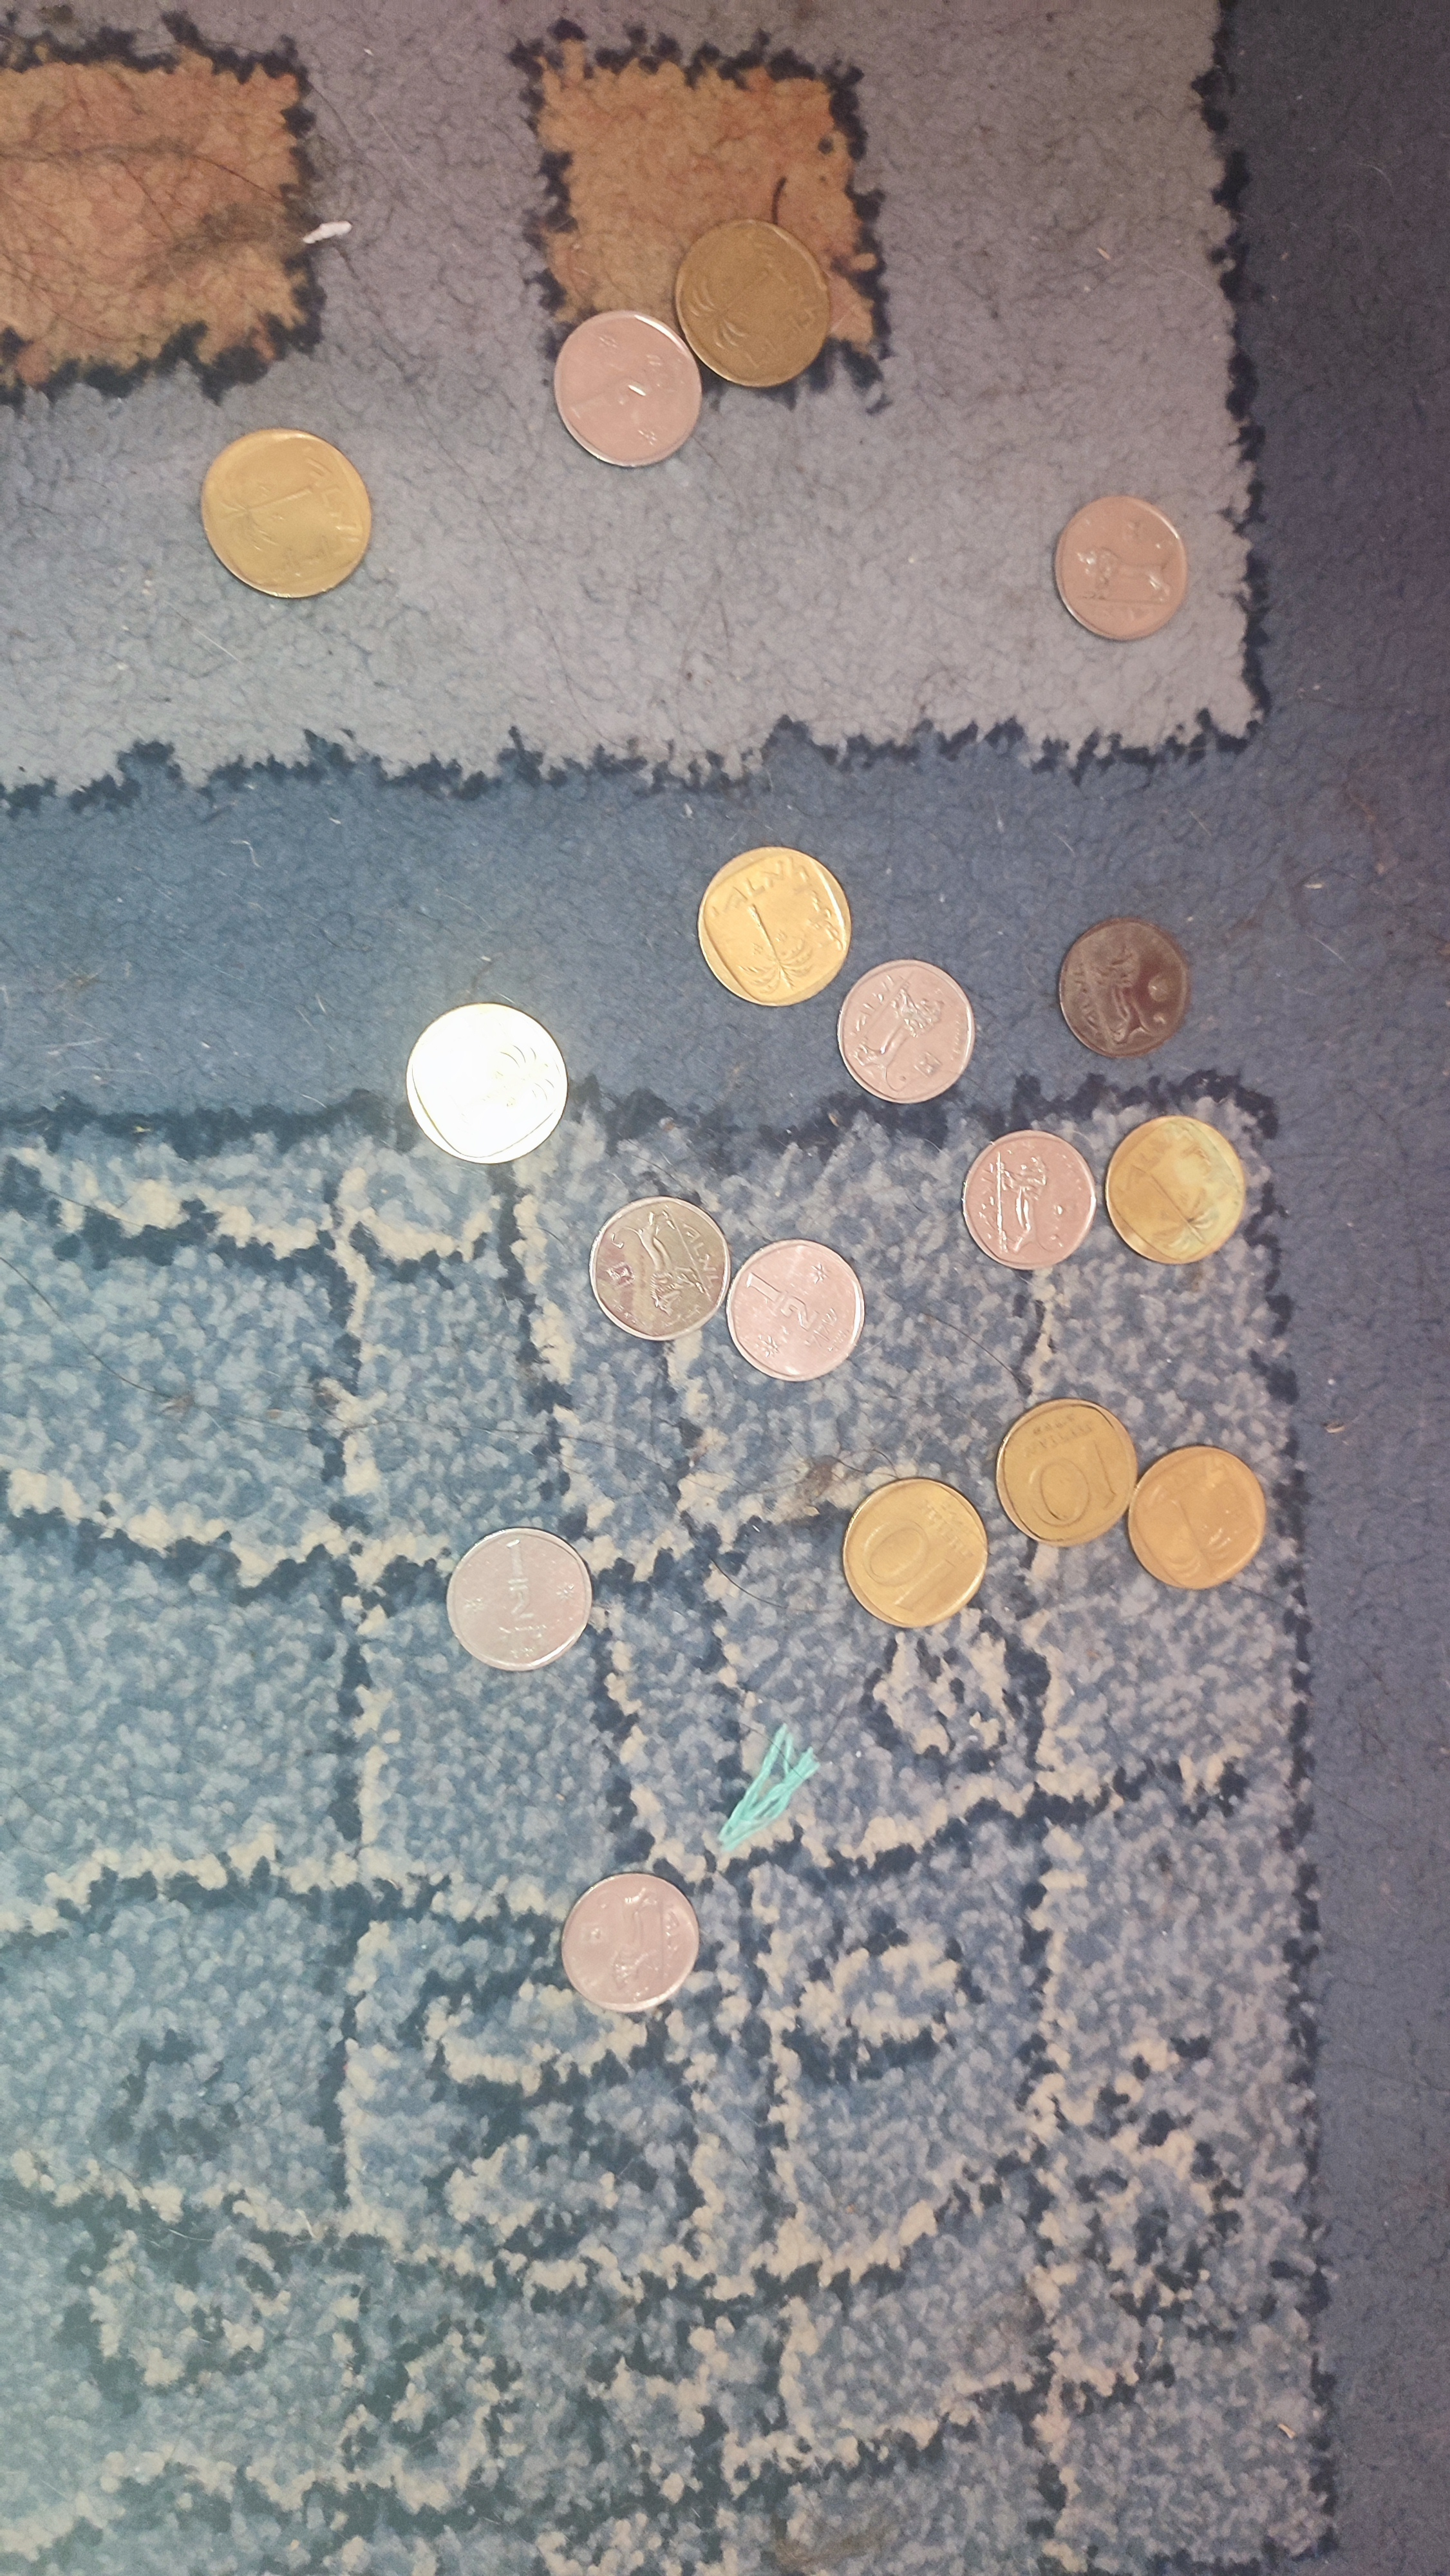1/2 old sheqel: (550, 306, 706, 476), (444, 1523, 594, 1675), (587, 1192, 734, 1346), (1050, 490, 1195, 646), (835, 955, 978, 1108), (723, 1237, 868, 1385), (557, 1868, 702, 2013), (1052, 913, 1192, 1058), (960, 1127, 1096, 1276)
10 old agora brown: (193, 425, 377, 609), (670, 214, 836, 395), (693, 840, 858, 1008), (836, 1472, 992, 1635), (1100, 1108, 1250, 1276), (990, 1392, 1139, 1552), (1123, 1444, 1273, 1591)
